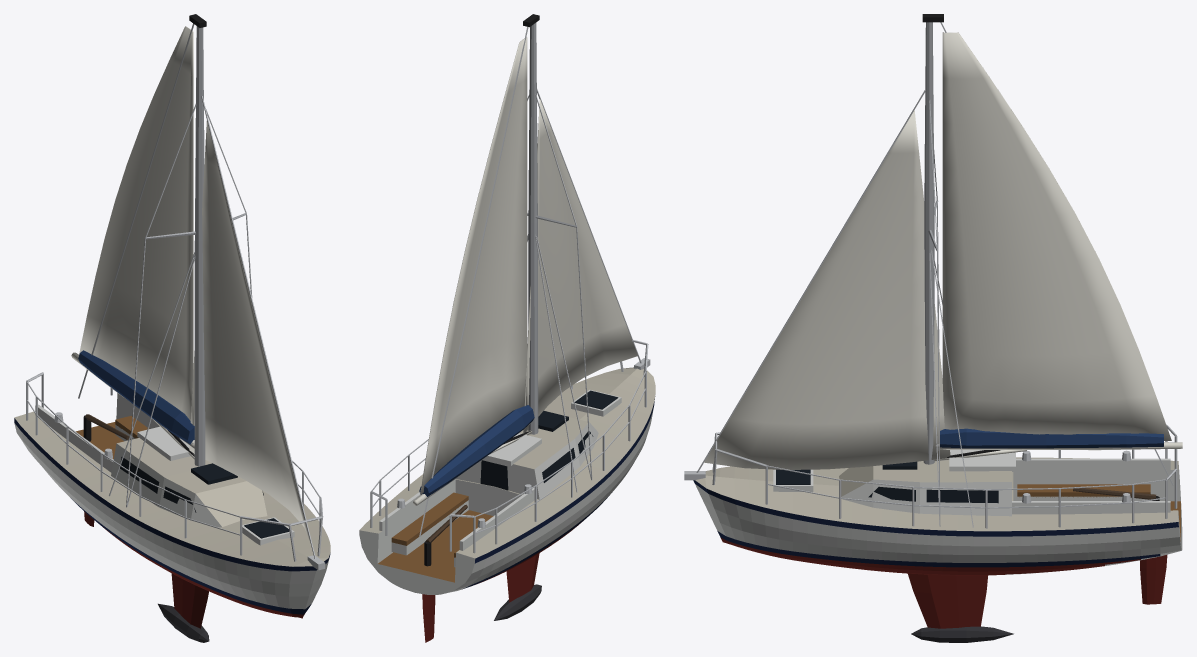
The model's file is sailboat_mid.glb.
The picture shows the model from 3 angles, left to right: view 1: azimuth 30°, elevation 25°; view 2: azimuth 150°, elevation 25°; view 3: azimuth 270°, elevation 25°; orthographic projection. The views are drawn at different scales.
Parts seen in each view (by area): view 1: Mainsail, Hull, Jib, Deck fittings, Mast, Rigging, Furled, Keel; view 2: Mainsail, Hull, Jib, Deck fittings, Mast, Rigging, Furled, Keel; view 3: Mainsail, Jib, Hull, Deck fittings, Keel, Mast, Furled, Rigging.
Part boxes in pixels (x1,y1,x2,y2): Mainsail: (71,26,194,459); Hull: (14,393,330,618); Jib: (189,121,310,542); Deck fittings: (26,372,325,570); Mast: (145,14,246,466); Rigging: (78,23,315,558); Furled: (78,350,194,456); Keel: (84,511,209,642); Mainsail: (413,37,532,505); Hull: (359,367,655,594); Jib: (523,99,637,433); Deck fittings: (370,340,650,567); Mast: (523,14,576,434); Rigging: (419,27,641,536); Furled: (419,405,534,499); Keel: (422,553,541,642); Mainsail: (934,32,1182,461); Jib: (704,110,950,469); Hull: (693,457,1182,575); Deck fittings: (684,424,1177,528); Keel: (908,555,1167,642); Mast: (922,14,943,464); Furled: (936,428,1174,457); Rigging: (696,22,1173,527).
Size of the model in its own units: 1.32 by 5.19 by 3.74.
